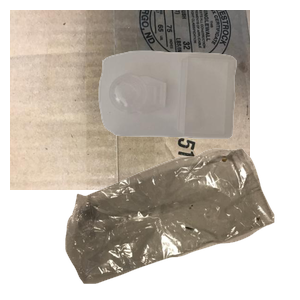cardboard: (10, 10, 250, 190)
glass: (102, 181, 246, 300)
plastic: (96, 48, 300, 179)
trash: (63, 145, 300, 300)
